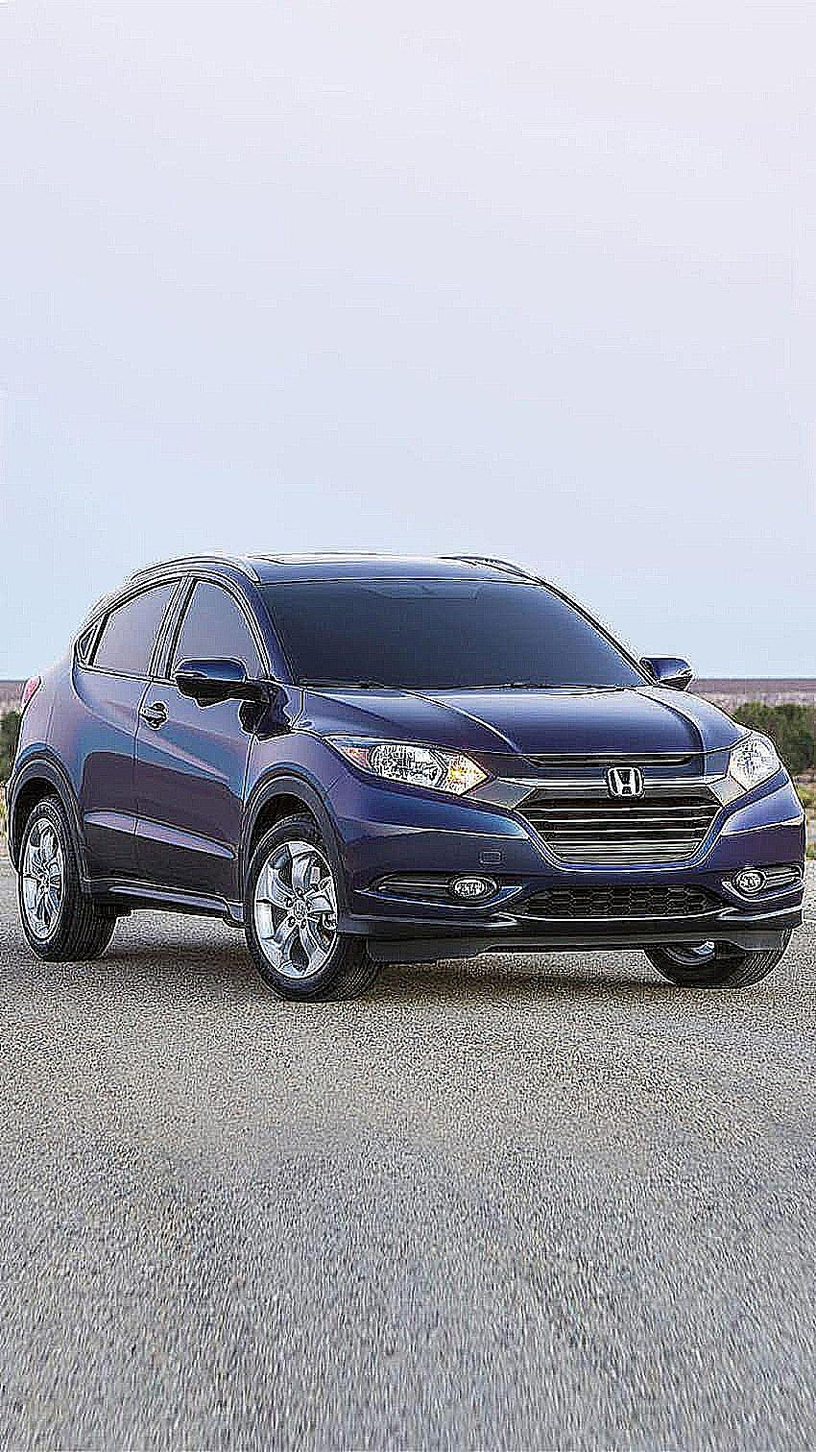Car hood: (291, 684, 760, 776)
Driver-s door - -F-R-: (118, 548, 274, 927)
Fender - -F-R-: (235, 684, 350, 915)
Fender - -R-R-: (2, 598, 72, 883)
Front bumper: (305, 783, 807, 959)
Headlight - -L-: (711, 728, 785, 812)
Headlight - -R-: (315, 735, 491, 801)
Passenger-s door - -R-R-: (47, 545, 199, 932)
Side bumper - -R-: (65, 841, 243, 936)
Side mirror - -L-: (631, 648, 696, 695)
Side mirror - -R-: (171, 653, 269, 727)
